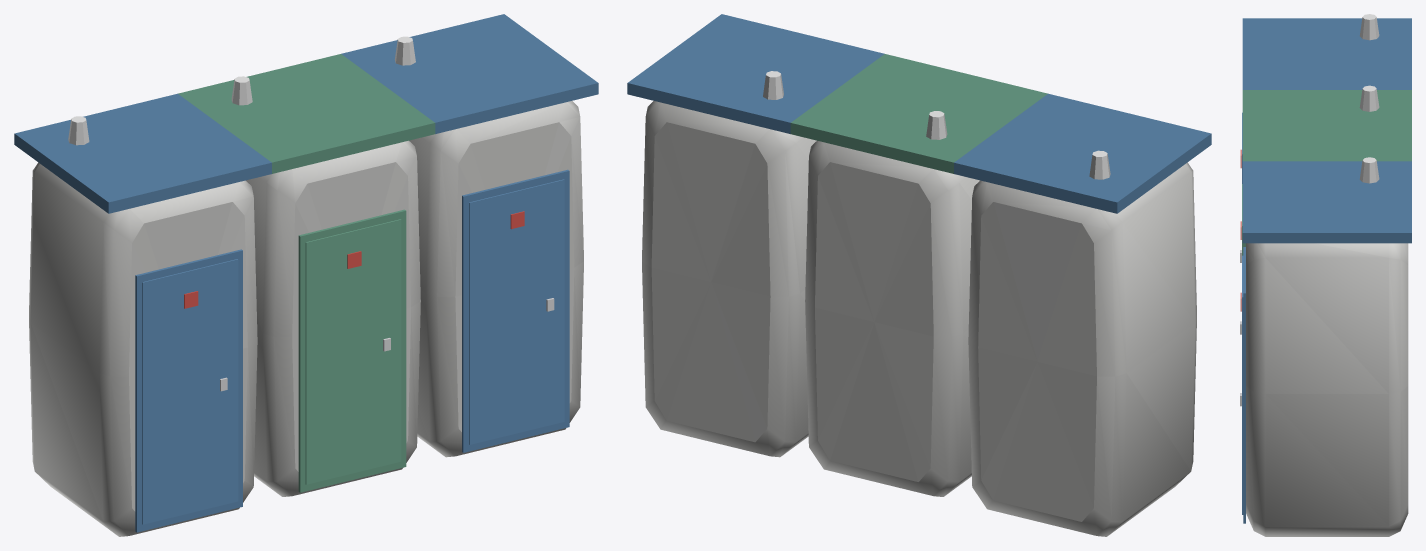
Rendered from festival_toilet_a.glb.
The picture shows the model from 3 angles, left to right: view 1: azimuth 30°, elevation 25°; view 2: azimuth 150°, elevation 25°; view 3: azimuth 270°, elevation 25°; orthographic projection. The views are drawn at different scales.
Parts seen in each view (by area): view 1: body; view 2: body; view 3: body.
Boxes of the visible parts, x1,y1,x2,y2 form: body: (14, 14, 598, 536); body: (627, 14, 1211, 536); body: (1240, 14, 1411, 536).
Size of what is drawn, in the model's own units: 3.6 by 2.61 by 1.22.
